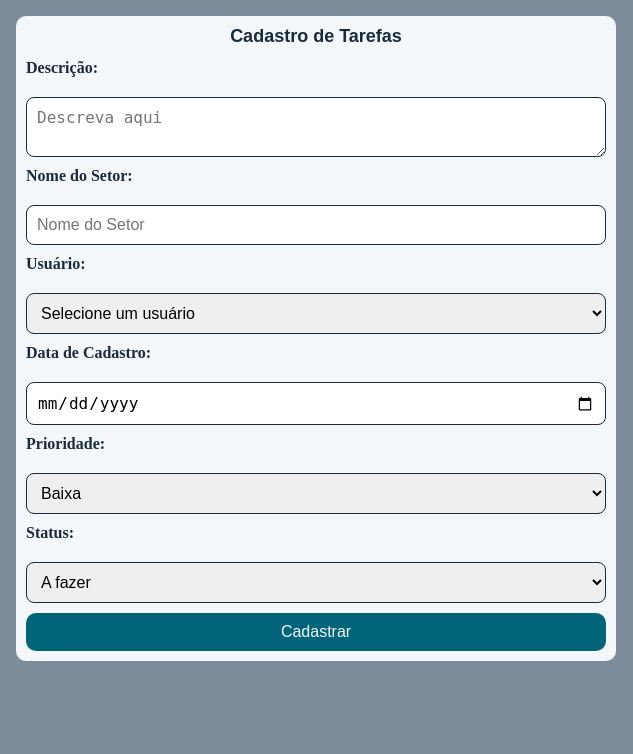
Cadastro de Tarefas › deve mostrar erro se a descrição tiver menos de 10 caracteres
Type "123" into the text box labelled "Descrição:" at [316, 127], box [26,97,606,157]
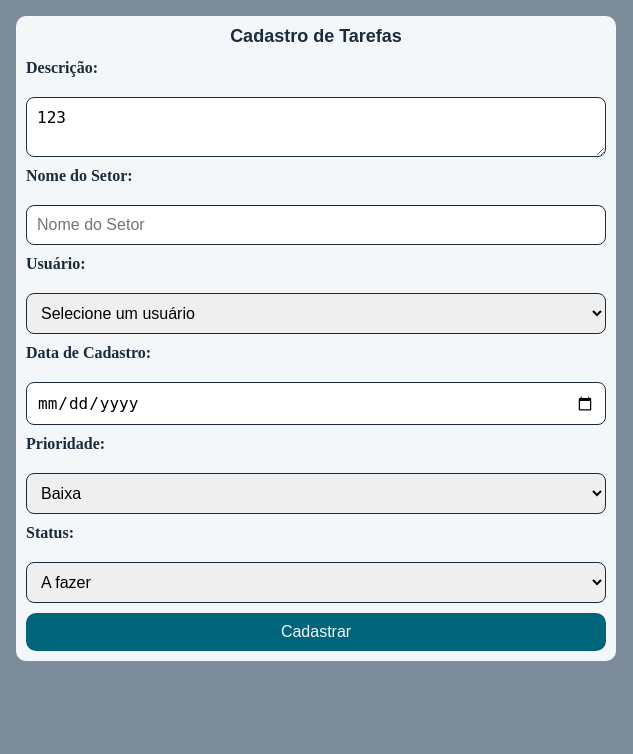
Click the button "Cadastrar" at [316, 632], box [26,613,606,651]
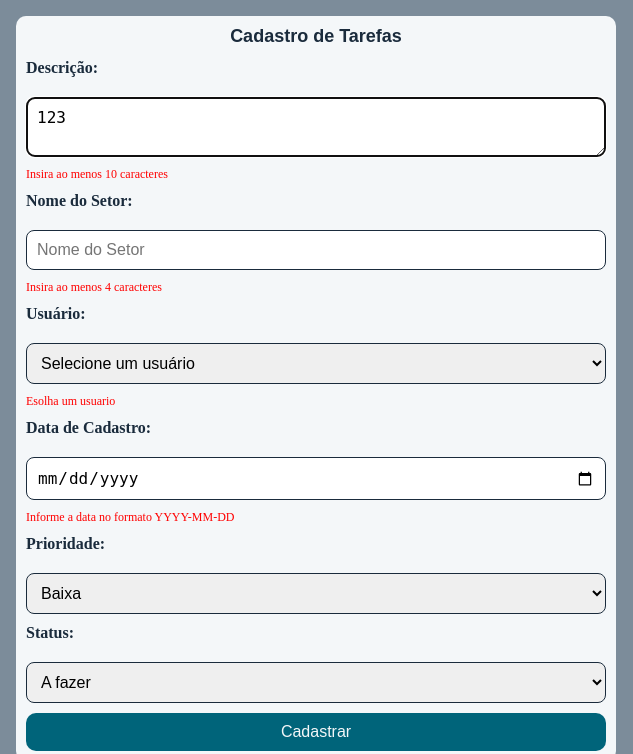
Expected: the text "Insira ao menos 10 caracteres" is shown, [26,167,168,181]
